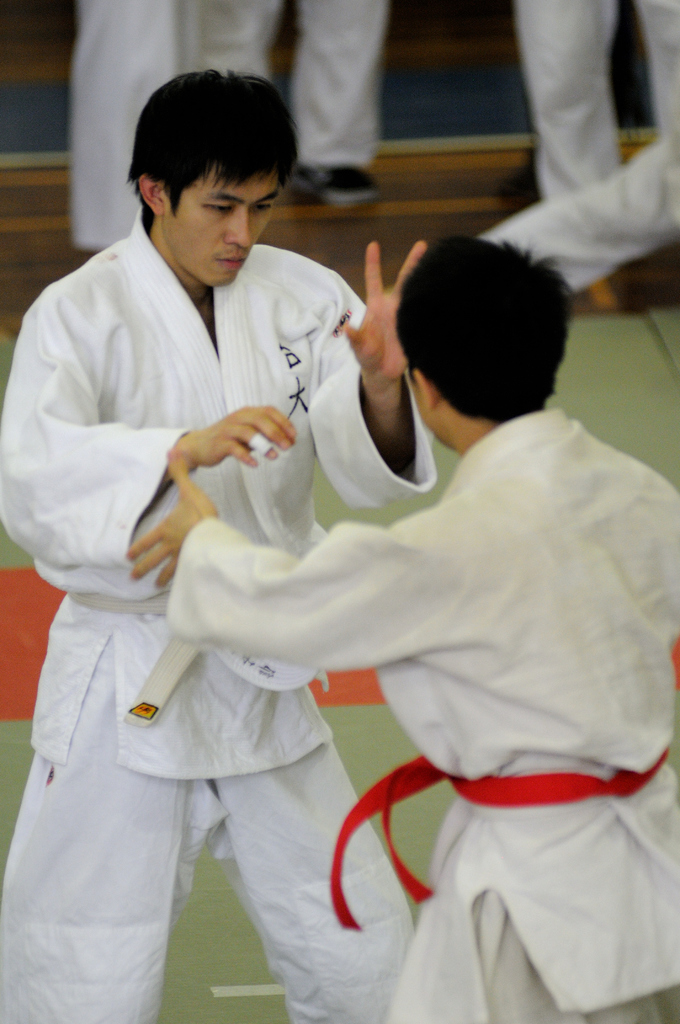Human_hand: (125, 449, 217, 590), (342, 241, 429, 387), (197, 404, 296, 470)
